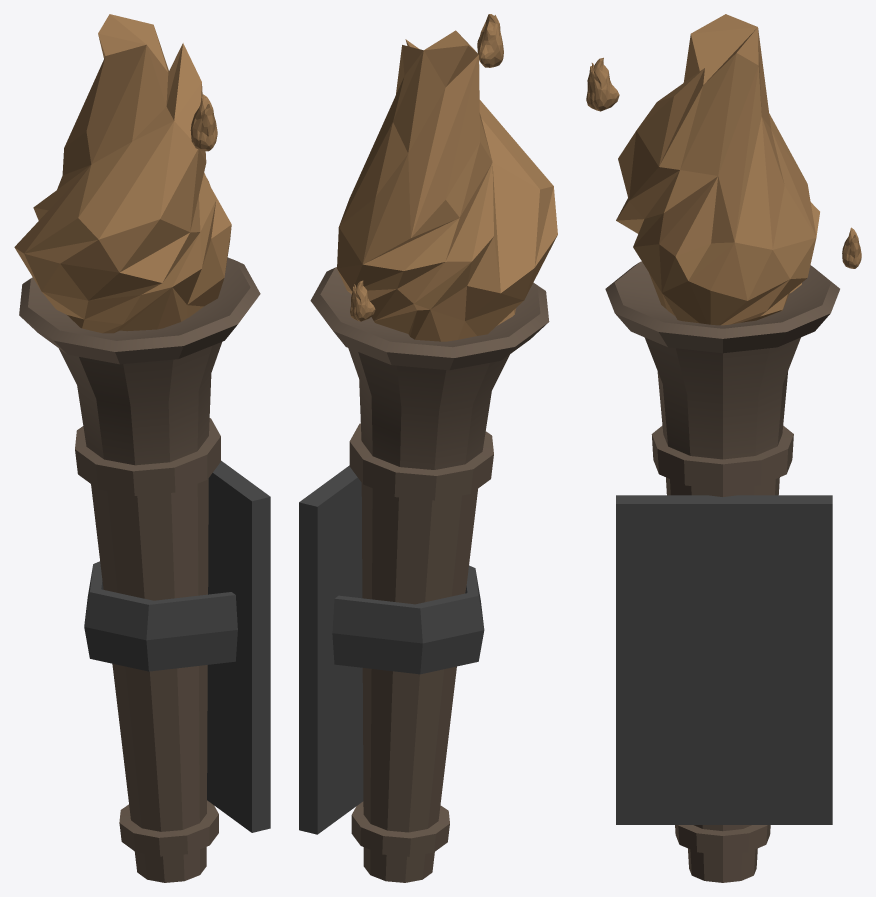
The model's file is LitTorchWall2.fbx.
3 renders of one model, left to right at view 1: azimuth 30°, elevation 25°; view 2: azimuth 150°, elevation 25°; view 3: azimuth 270°, elevation 25°, orthographic. The views are drawn at different scales.
Parts seen in each view (by area): view 1: LitTorchEx_Wall; view 2: LitTorchEx_Wall; view 3: LitTorchEx_Wall.
Part boxes in pixels (x1=…): LitTorchEx_Wall: x1=14, y1=14, x2=270, y2=882; LitTorchEx_Wall: x1=299, y1=14, x2=557, y2=882; LitTorchEx_Wall: x1=586, y1=14, x2=861, y2=882.
Size of the model in its own units: 16.04 by 60.65 by 18.38.
